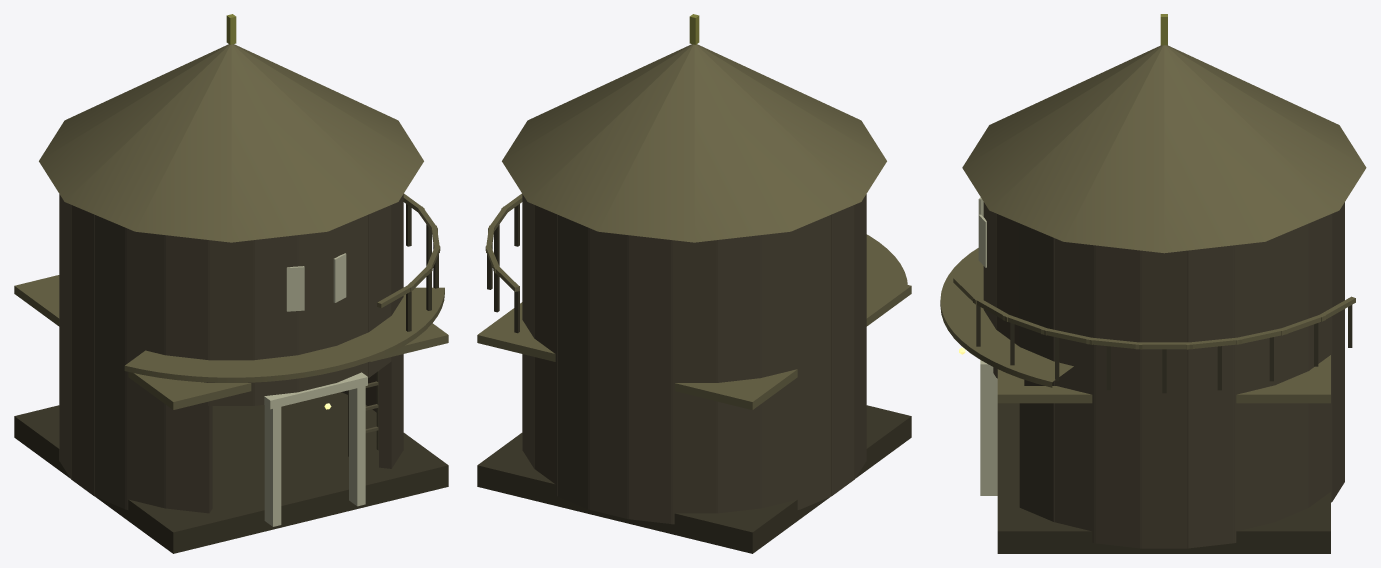
The model's file is village_tower3.glb.
3 views of the same model, side by side, from view 1: azimuth 30°, elevation 25°; view 2: azimuth 150°, elevation 25°; view 3: azimuth 270°, elevation 25° (orthographic). The views are drawn at different scales.
Visible parts, largest first — view 1: tw3_0, tw3_5, tw3_1, tw3_3, tw3_2, tw3_14; view 2: tw3_0, tw3_5, tw3_1, tw3_2; view 3: tw3_0, tw3_5, tw3_1, tw3_2, tw3_3, tw3_14.
Boxes of the visible parts, left/top/right/bottom form: tw3_0: left=59, top=194, right=403, bottom=513; tw3_5: left=39, top=44, right=444, bottom=382; tw3_1: left=14, top=204, right=448, bottom=553; tw3_3: left=264, top=372, right=367, bottom=526; tw3_2: left=14, top=275, right=448, bottom=409; tw3_14: left=286, top=253, right=346, bottom=311; tw3_0: left=522, top=194, right=866, bottom=524; tw3_5: left=485, top=44, right=907, bottom=291; tw3_1: left=477, top=204, right=911, bottom=553; tw3_2: left=477, top=285, right=911, bottom=409; tw3_0: left=983, top=202, right=1344, bottom=548; tw3_5: left=940, top=45, right=1366, bottom=387; tw3_1: left=976, top=305, right=1352, bottom=553; tw3_2: left=997, top=355, right=1330, bottom=403; tw3_3: left=980, top=360, right=997, bottom=495; tw3_14: left=978, top=197, right=986, bottom=267.
Size of the model in its own units: 6.76 by 8.3 by 6.85.
4 materials, 1 textured.
